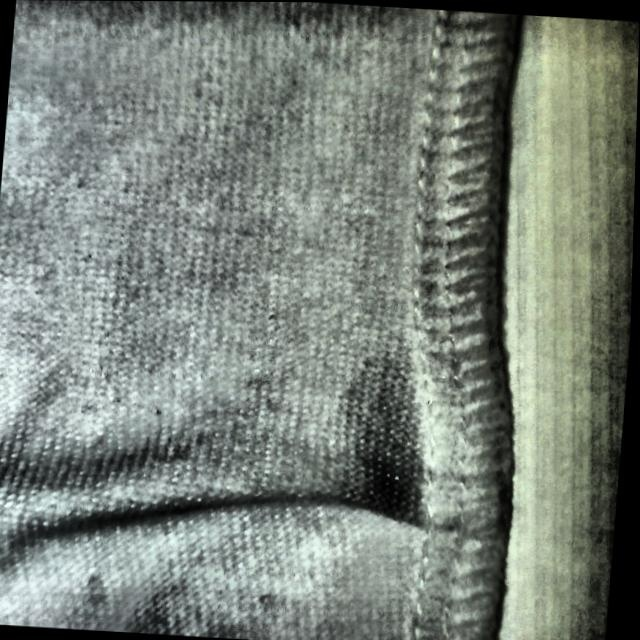seam: (187, 399, 522, 592)
